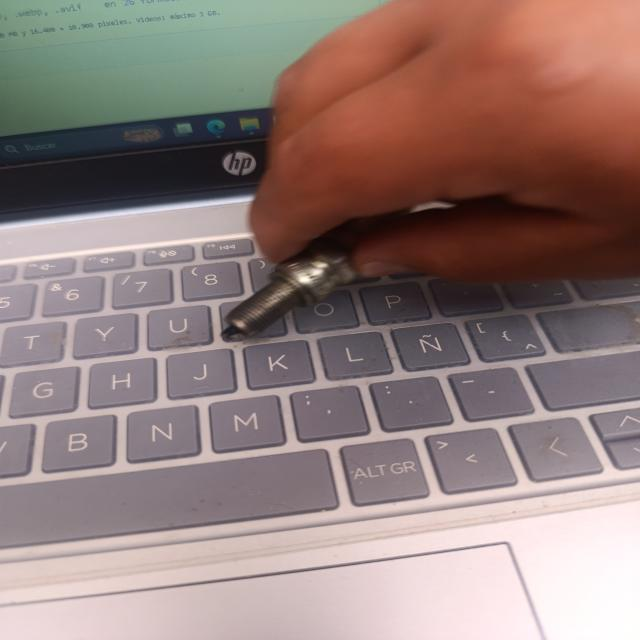bujia: (222, 211, 406, 340)
